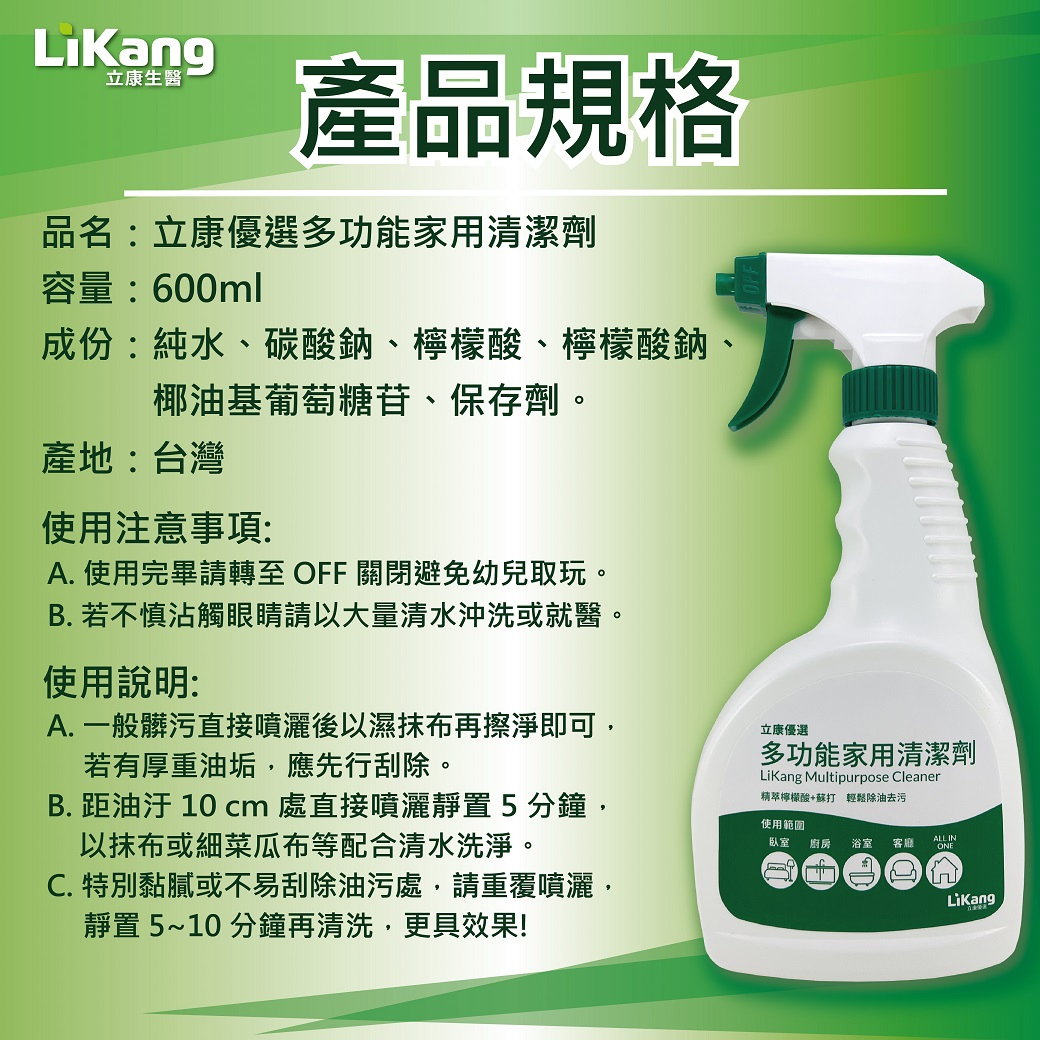cleaner: (674, 241, 1033, 989)
